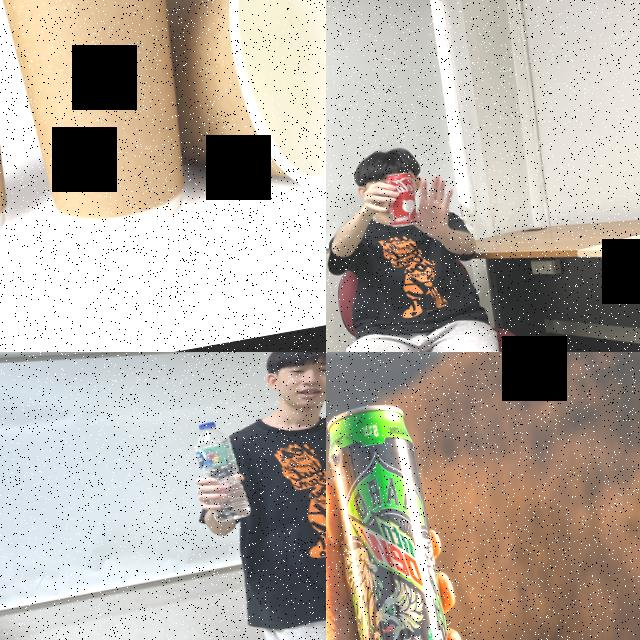bottle: (189, 417, 256, 528)
can: (326, 394, 482, 640), (381, 170, 422, 228)
cup: (0, 0, 221, 247), (141, 0, 326, 217)
